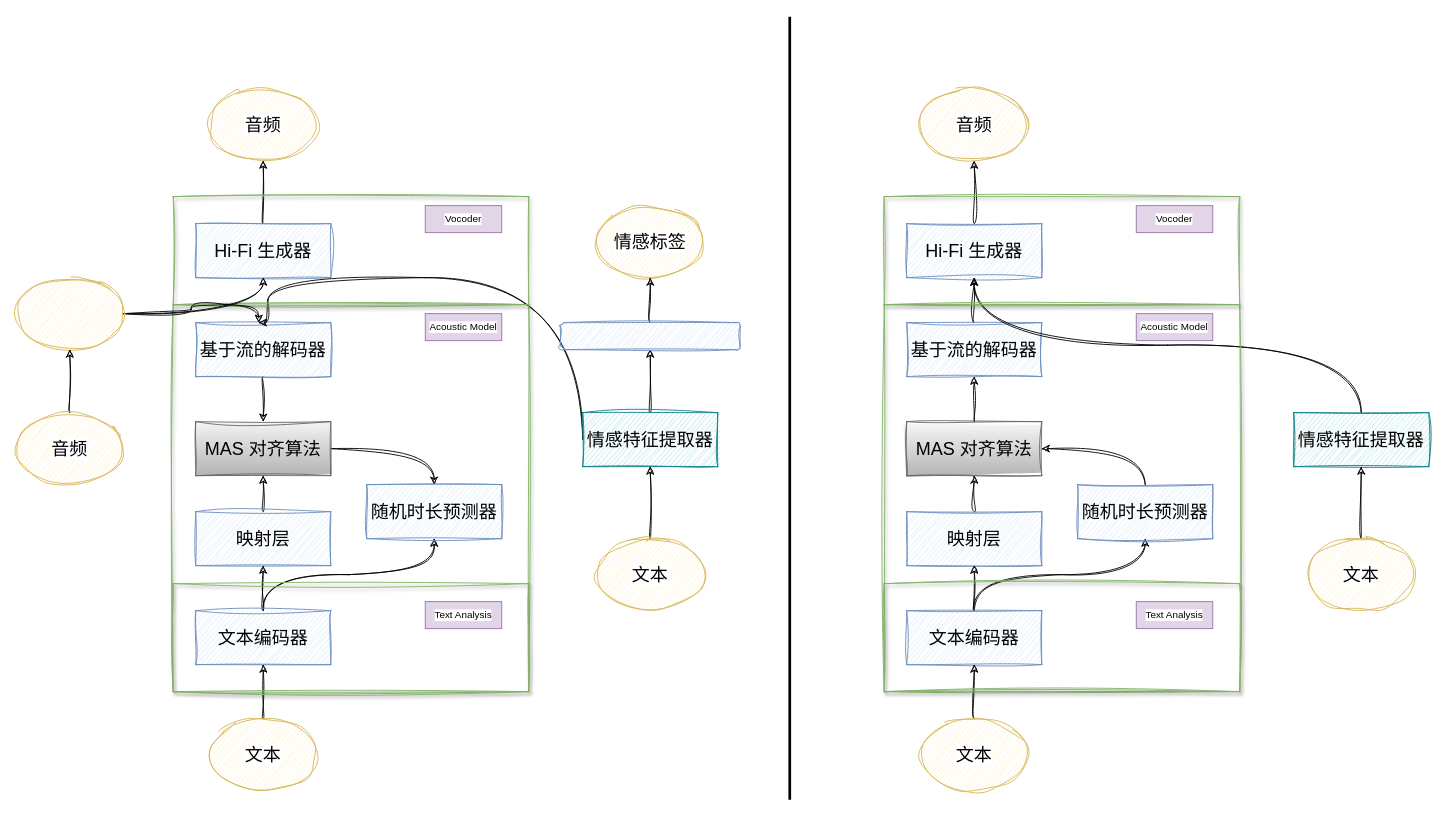
This 1445x817 diagram has some shape labels left out. The shapes that lost their labels are listed below. From the top down, each one's centre as x and y in pixels, then its label:
At (69,313): "音频特征".
At (649,336): "分类头".
